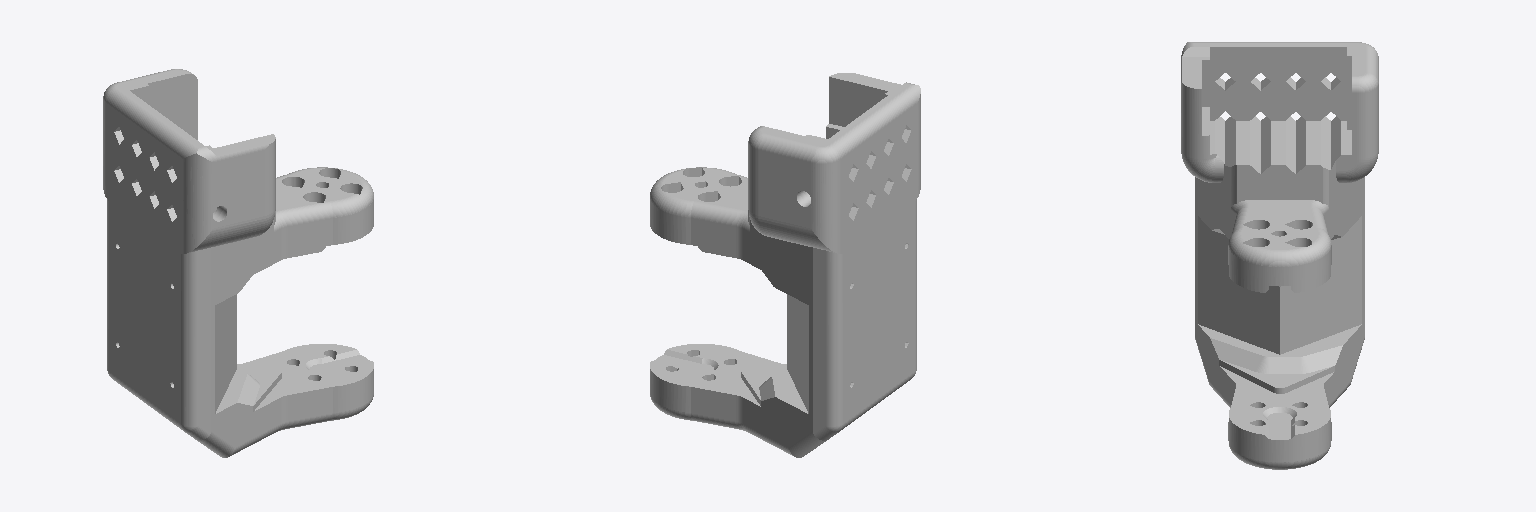
The model's file is shoulder_collisions_rotation_pitch_so101_v1_mesh.obj.
3 renders of one model, left to right at view 1: azimuth 30°, elevation 25°; view 2: azimuth 150°, elevation 25°; view 3: azimuth 270°, elevation 25°, orthographic.
Bounding box in the file's own units: 0.0598 × 0.0842 × 0.046.